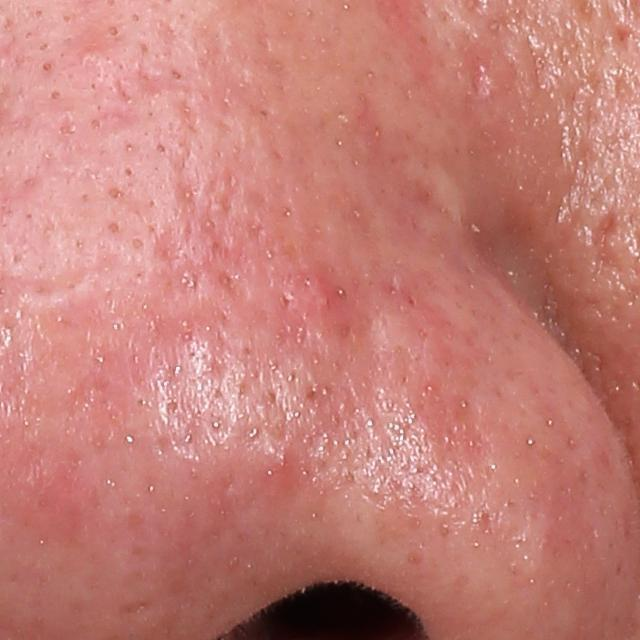atrophic_scar: (457, 37, 501, 105), (588, 207, 623, 278), (167, 148, 199, 221)
comedo: (47, 87, 66, 105), (85, 115, 102, 132), (107, 186, 125, 202), (105, 22, 121, 39), (38, 60, 55, 76), (130, 234, 147, 250), (105, 220, 121, 235), (122, 165, 136, 180), (60, 12, 72, 26), (155, 142, 166, 155), (129, 12, 141, 23)
